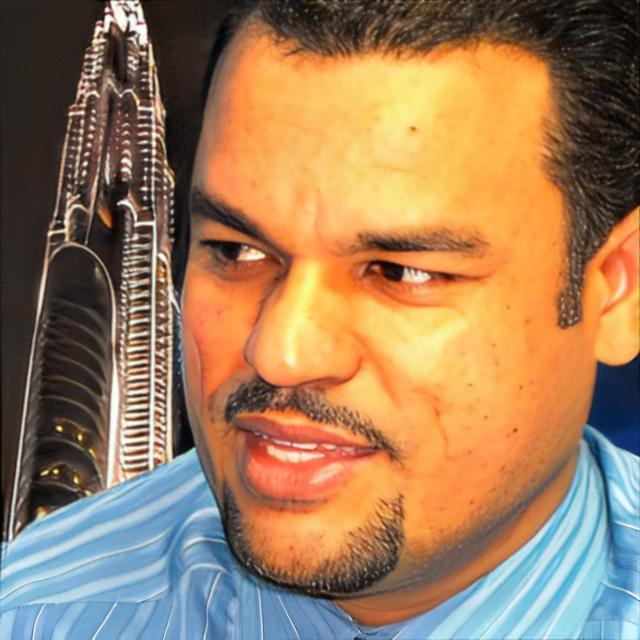disgust: (177, 0, 595, 595)
